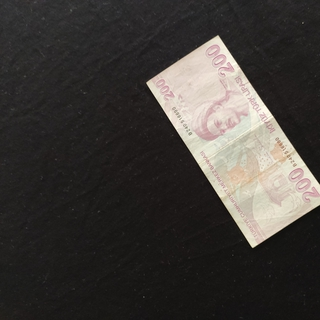200TLBack: (145, 34, 320, 248)
